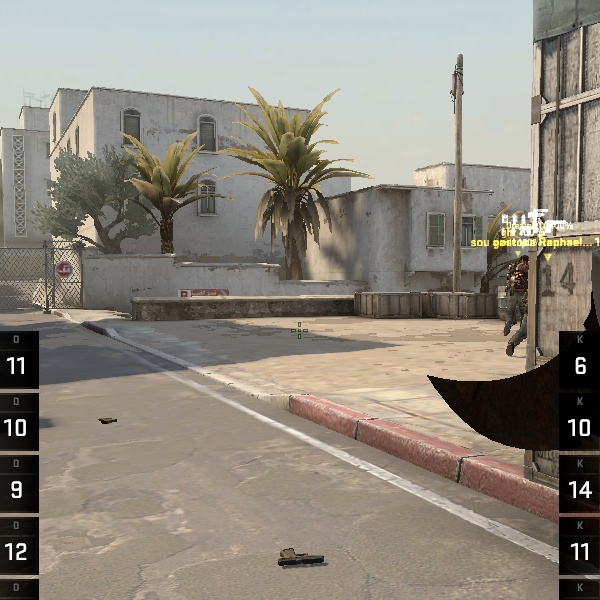t_body: (487, 253, 537, 359)
